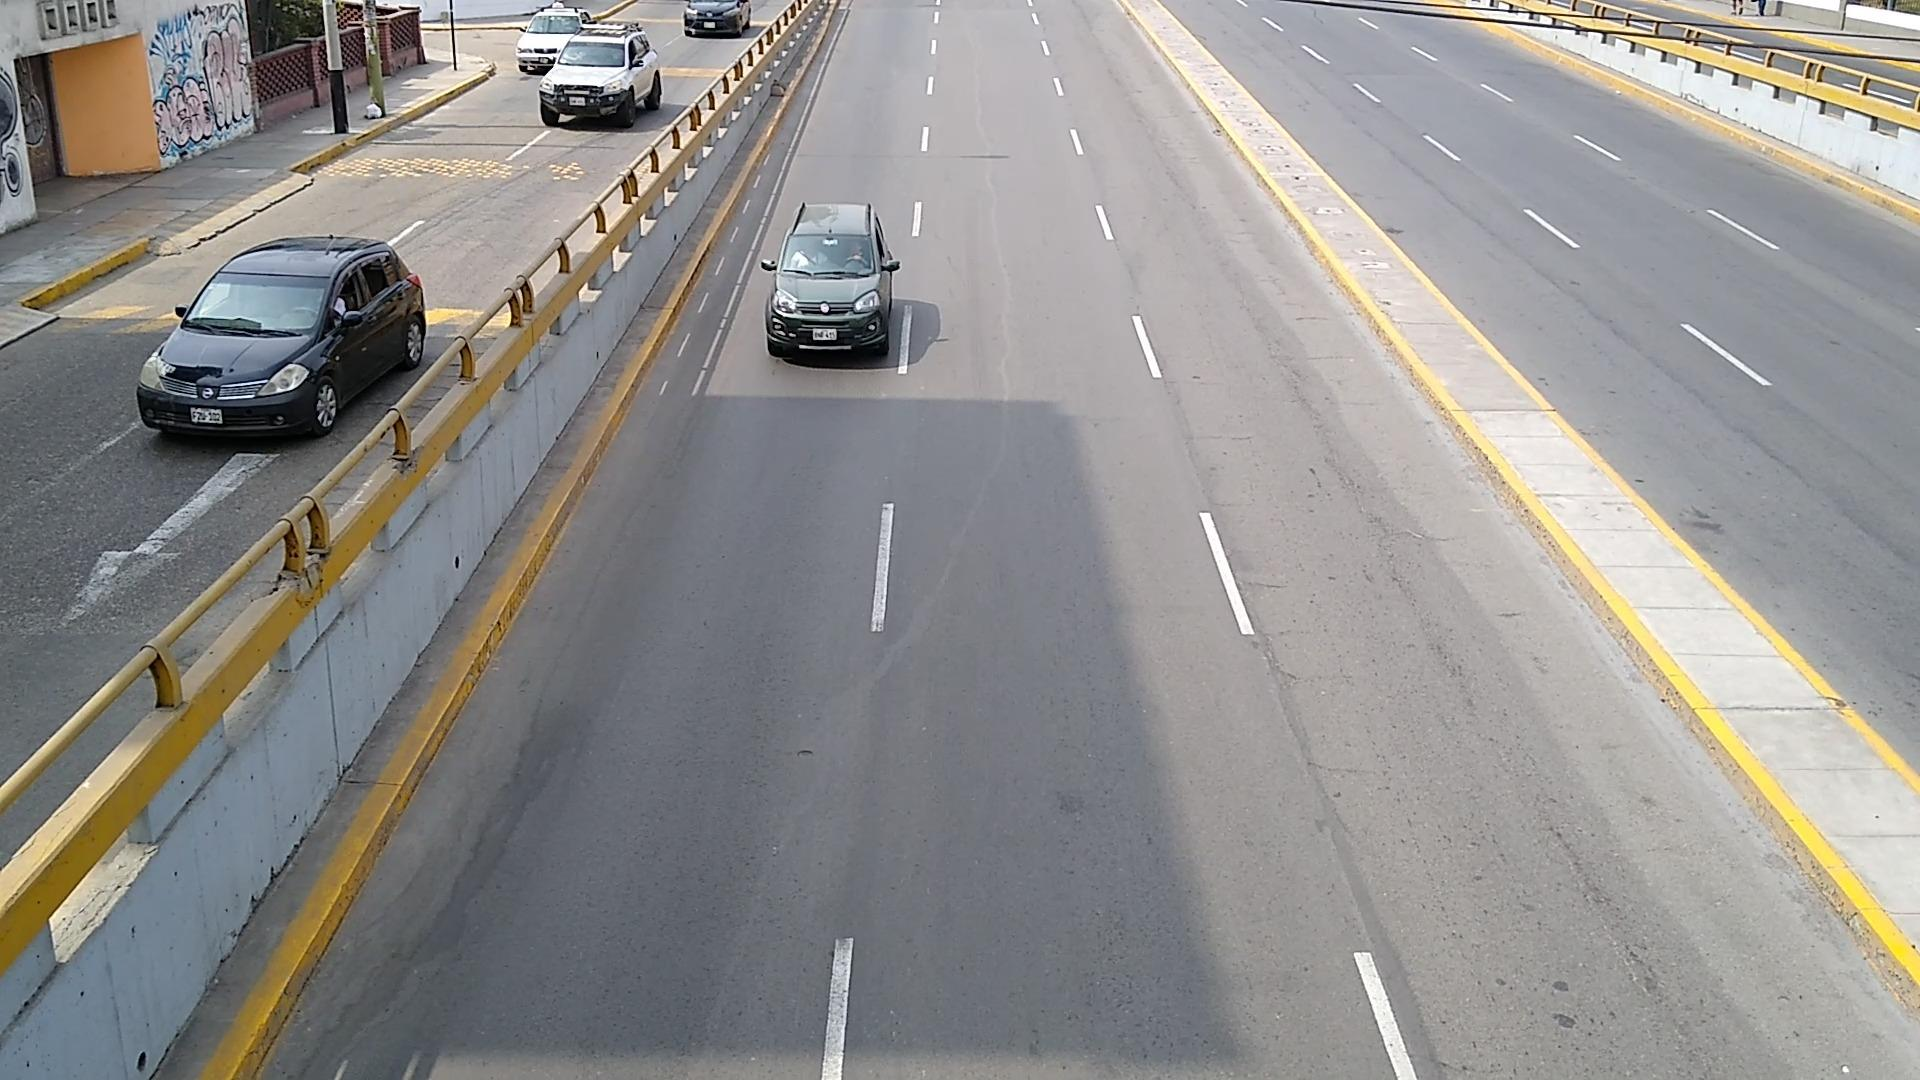car: (135, 236, 427, 435), (761, 203, 899, 356), (541, 26, 663, 128), (517, 4, 596, 75), (683, 0, 750, 36)
